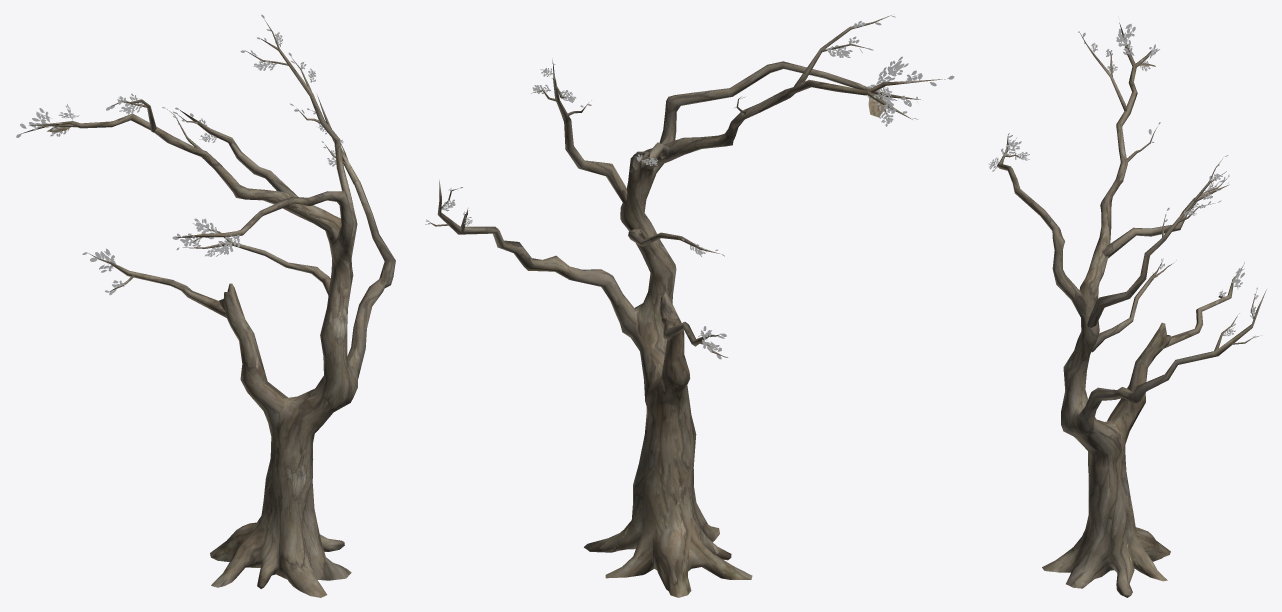
Rendered from SM_Com_Tre_10AM.fbx.
3 renders of one model, left to right at view 1: azimuth 30°, elevation 25°; view 2: azimuth 150°, elevation 25°; view 3: azimuth 270°, elevation 25°, orthographic. The views are drawn at different scales.
Visible parts, largest first — view 1: SM_Com_Tre_10AM.mo; view 2: SM_Com_Tre_10AM.mo; view 3: SM_Com_Tre_10AM.mo.
Boxes of the visible parts, x1,y1,x2,y2 form: SM_Com_Tre_10AM.mo: (16, 14, 395, 597); SM_Com_Tre_10AM.mo: (425, 15, 954, 597); SM_Com_Tre_10AM.mo: (988, 17, 1266, 597).
Bounding box in the file's own units: 4.08 × 5.1 × 2.83.
